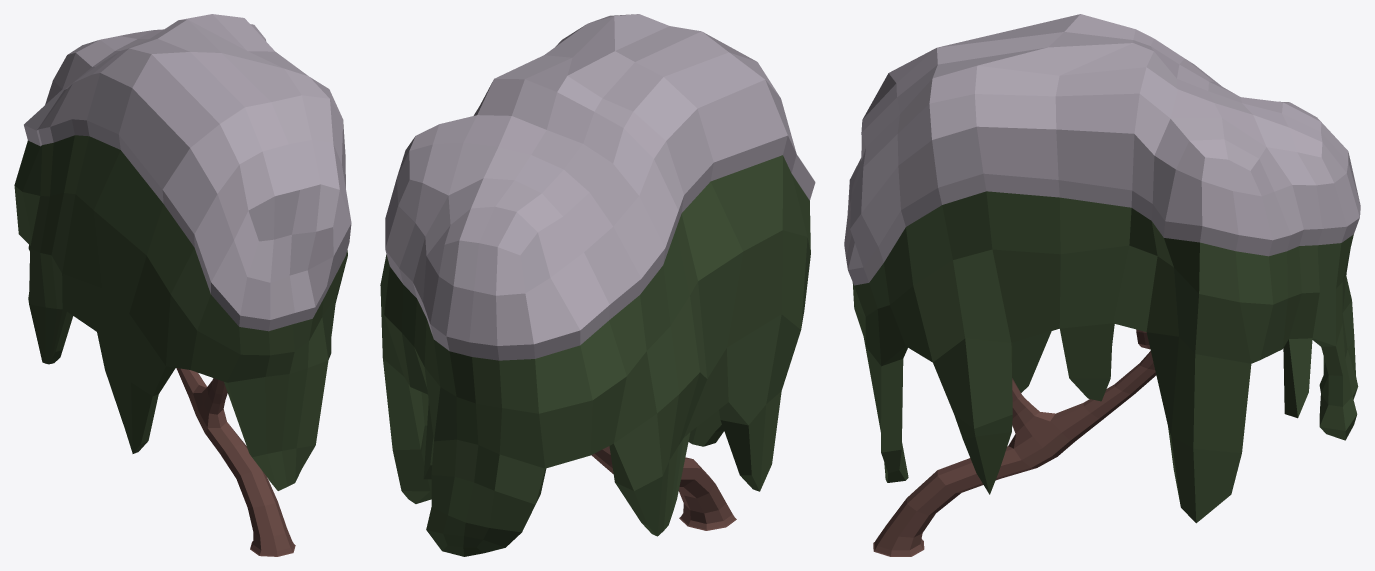
File: Willow_Snow_2.gltf
The picture shows the model from 3 angles, left to right: view 1: azimuth 30°, elevation 25°; view 2: azimuth 150°, elevation 25°; view 3: azimuth 270°, elevation 25°; orthographic projection. The views are drawn at different scales.
Parts seen in each view (by area): view 1: Willow_Snow_2; view 2: Willow_Snow_2; view 3: Willow_Snow_2.
Boxes of the visible parts, x1,y1,x2,y2 form: Willow_Snow_2: (14,14,351,556); Willow_Snow_2: (380,14,815,556); Willow_Snow_2: (844,14,1360,556).
Size of the model in its own units: 1.95 by 3.46 by 3.16.
